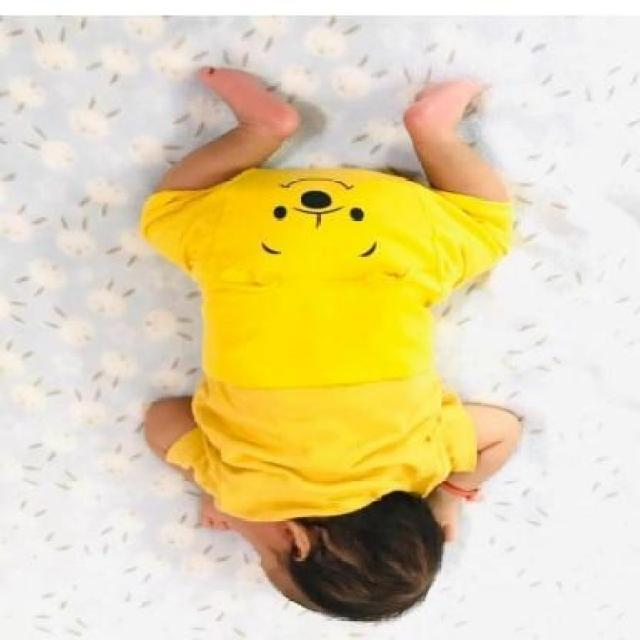baby: (140, 70, 520, 624)
